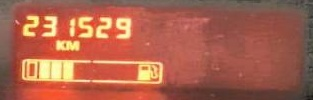1: (64, 15, 75, 37)
2: (20, 13, 39, 36), (93, 15, 111, 37)
3: (40, 13, 57, 36)
5: (76, 15, 93, 37)
9: (113, 15, 132, 38)
X: (64, 38, 78, 50), (54, 38, 64, 50)
